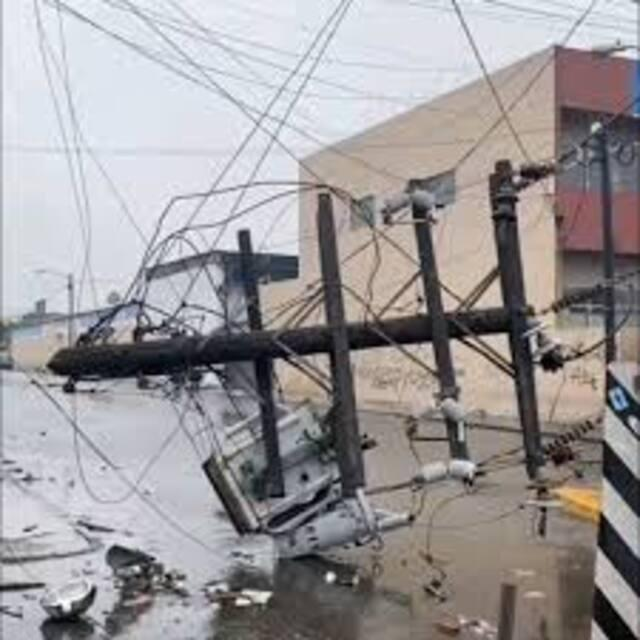Inclined Pole: (57, 141, 598, 571)
